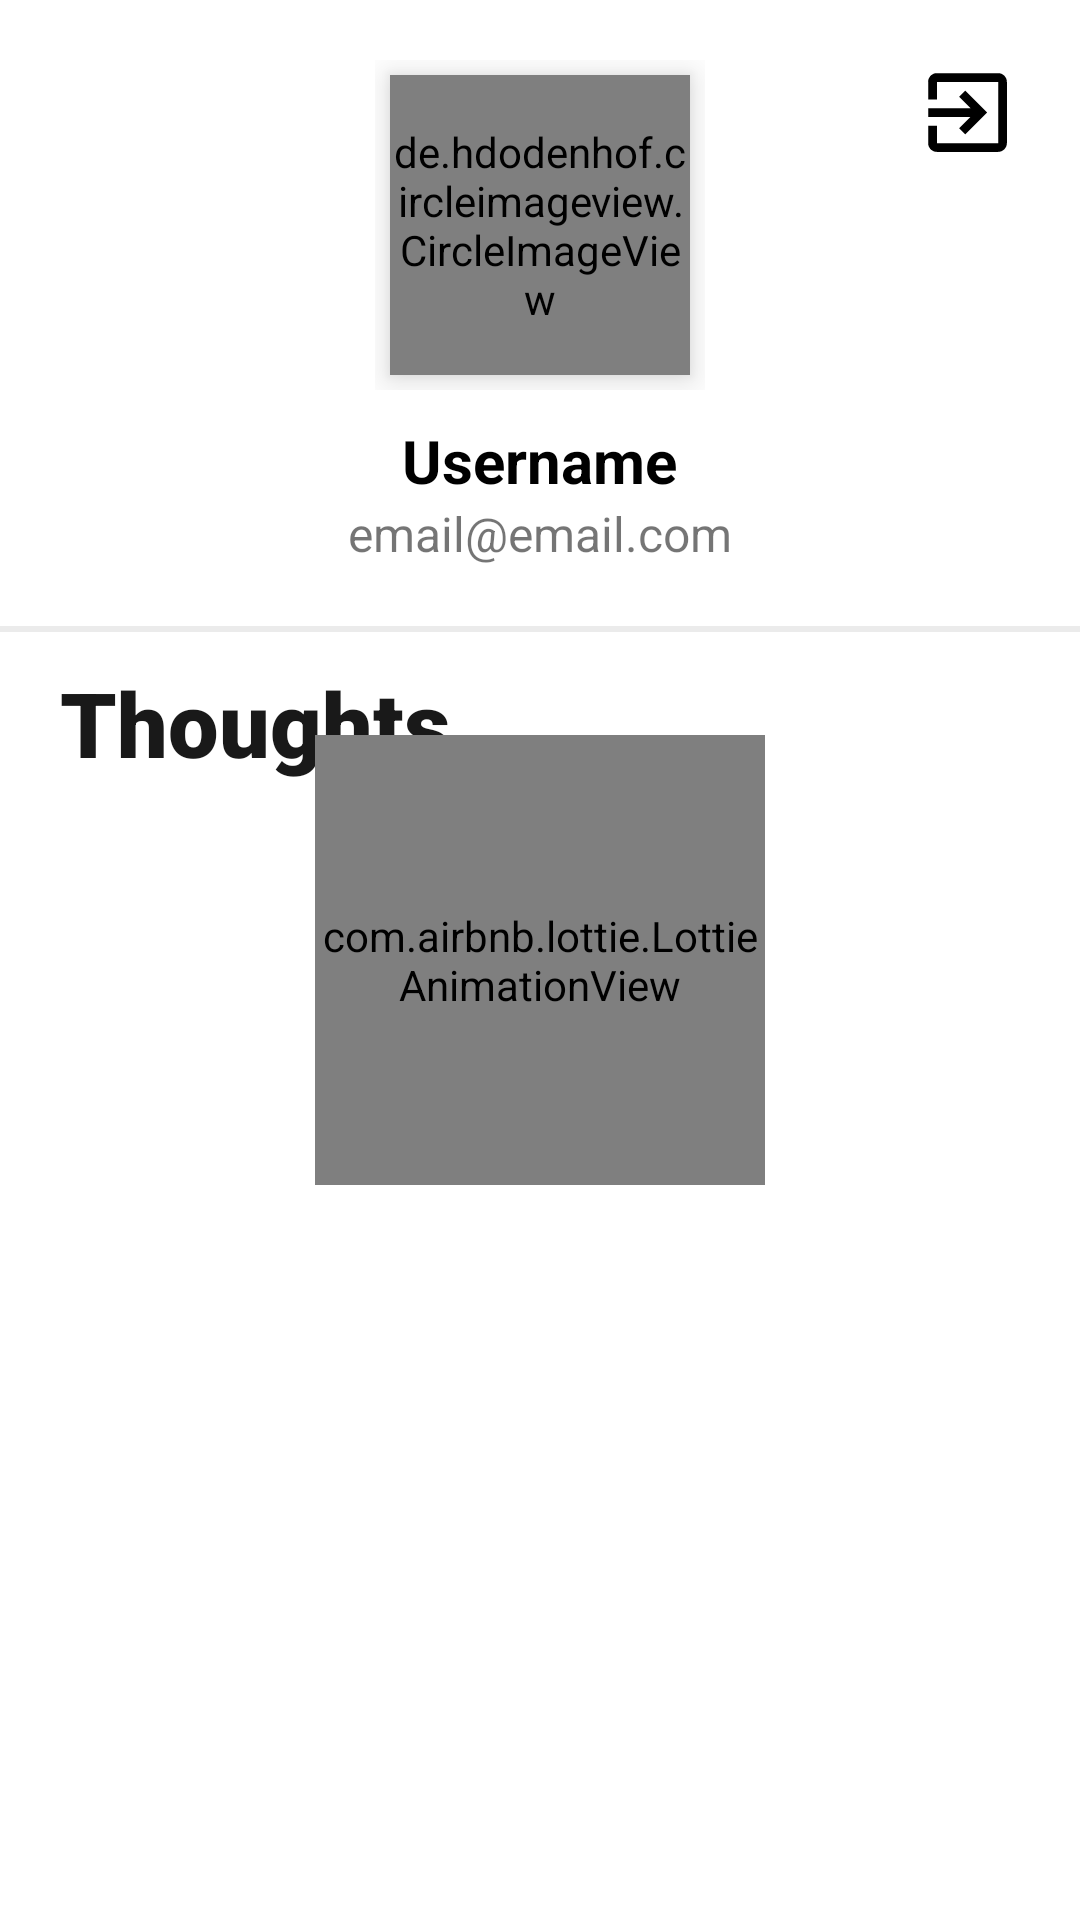

Screen size 1080 × 1920. Icon name, then its box in pixels as bbox(x1, y1, x2, y2):
exit to app: bbox(928, 73, 1007, 152)
